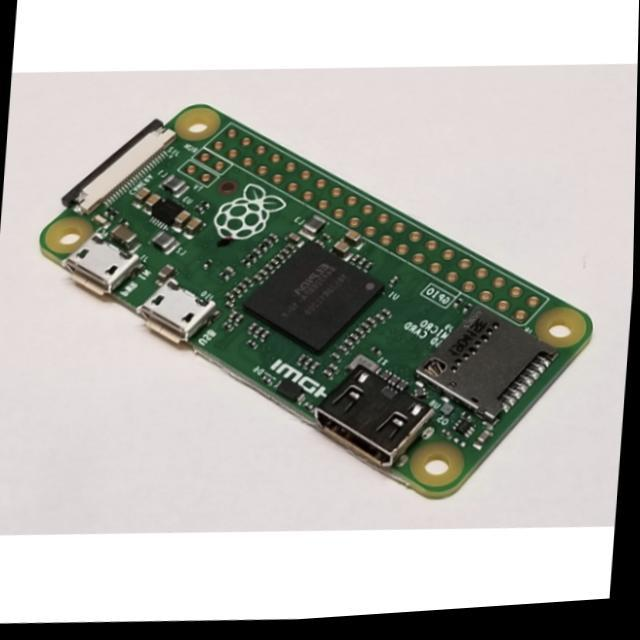Raspberry-Pi-Zero: (41, 105, 595, 499)
